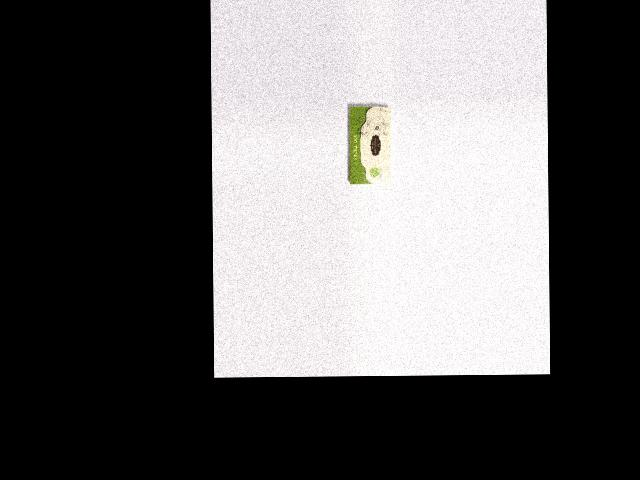chocolate: (347, 105, 392, 185)
